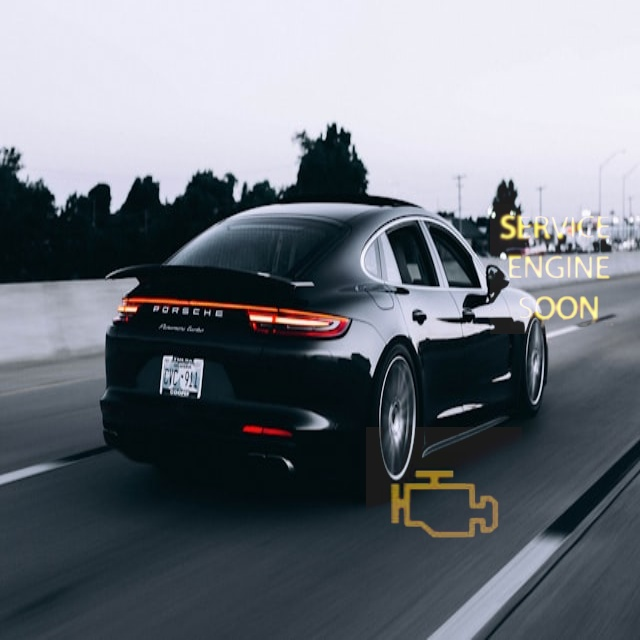symbol: (366, 427, 522, 583), (480, 70, 629, 219), (490, 204, 620, 334)
